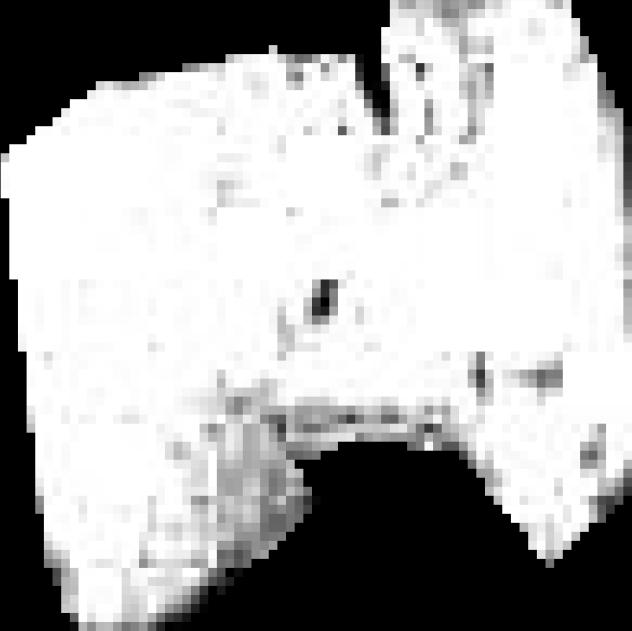tumor_good_chance: (1, 0, 632, 631)
